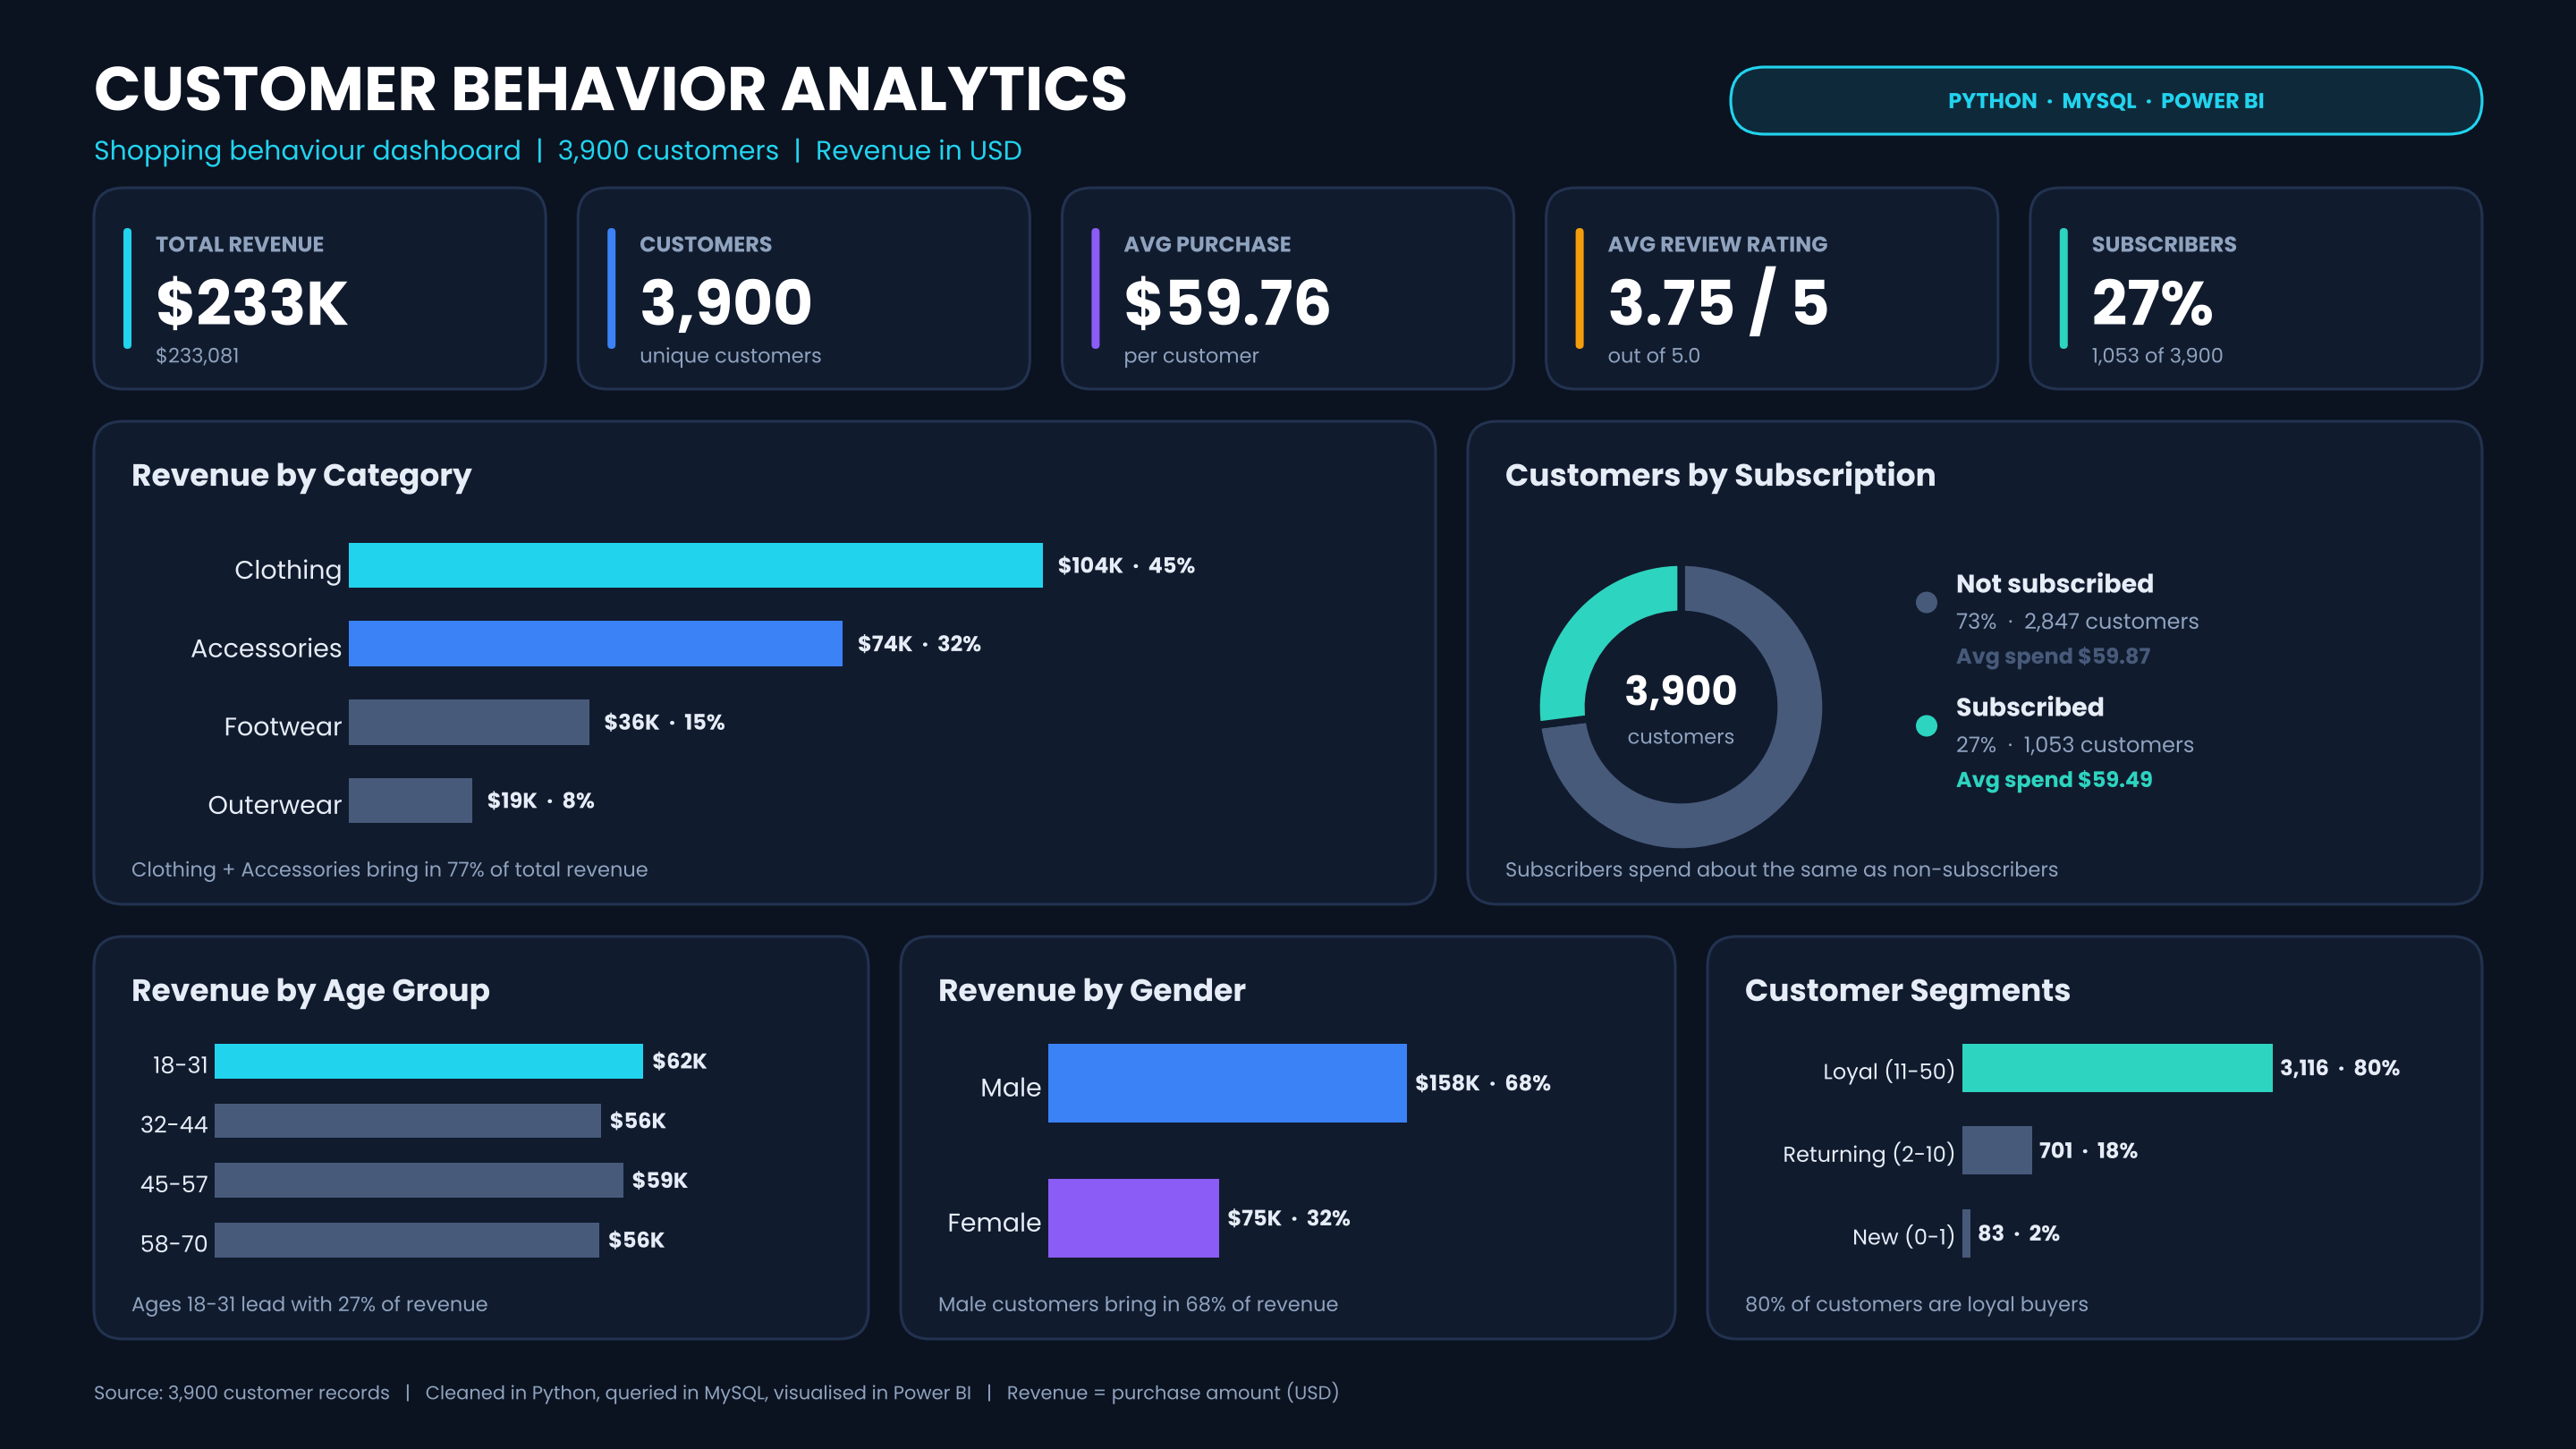

The page's visual inventory and layout, read from the dashboard file:
{"tool":"powerbi","page":{"name":"Page 1","canvas":[1920,1080],"ordinal":0},"visuals":[{"type":"cardVisual","fields":{"Data":["customer_behaviour customers.no_of_customers","customer_behaviour customers.avg_purchase_amount","customer_behaviour customers.avg_review_rating"]},"box":[0,169.2,1130.2,190.1],"z":0},{"type":"shape","box":[1546,170,333.9,880.5],"z":0,"group":"g7"},{"type":"shape","box":[0,426,484,296],"z":0,"group":"g2"},{"type":"shape","box":[510,426,484,296],"z":0,"group":"g1"},{"type":"shape","box":[1016,426,472,296],"z":0,"group":"g3"},{"type":"shape","box":[0,788,752.4,258.4],"z":9,"group":"g5"},{"type":"shape","box":[772,788,716.7,261.7],"z":9,"group":"g6"},{"type":"group","id":"g1","title":"Group 3","box":[510,426,484,296],"z":14,"group":"g4"},{"type":"clusteredBarChart","title":"Revenue by age group","fields":{"Category":["customer_behaviour customers.age_group"],"Y":["Sum(customer_behaviour customers.purchase_amount)"]},"box":[22.5,807.2,707.4,219.9],"z":17,"group":"g5"},{"type":"clusteredBarChart","title":"Sales by age group","fields":{"Category":["customer_behaviour customers.age_group"],"Y":["CountNonNull(customer_behaviour customers.customer_id)"]},"box":[790.3,808,680.2,221.7],"z":17,"group":"g6"},{"type":"shape","box":[0,0,1919.3,156.1],"z":1000},{"type":"advancedSlicerVisual","fields":{"Values":["customer_behaviour customers.subscription_status"]},"box":[1567.9,187.7,292.8,145.1],"z":1000,"group":"g7"},{"type":"clusteredColumnChart","title":"Sales by category","fields":{"Category":["customer_behaviour customers.category"],"Y":["CountNonNull(customer_behaviour customers.customer_id)"]},"box":[22.8,443.4,438.4,261.2],"z":1000,"group":"g2"},{"type":"donutChart","title":"% of customers by subscprition status","fields":{"Category":["customer_behaviour customers.subscription_status"],"Y":["CountNonNull(customer_behaviour customers.customer_id)"]},"box":[528.4,446.4,447.1,255.2],"z":1000,"group":"g1"},{"type":"clusteredColumnChart","title":"Revenue by category","fields":{"Category":["customer_behaviour customers.category"],"Y":["Sum(customer_behaviour customers.purchase_amount)"]},"box":[1037.8,446.4,428.4,255.3],"z":1000,"group":"g3"},{"type":"group","id":"g2","title":"Group 1","box":[0,426,484,296],"z":1500},{"type":"textbox","box":[0,40.4,1919.3,86],"z":2000},{"type":"advancedSlicerVisual","title":"Gender","fields":{"Values":["customer_behaviour customers.gender"]},"box":[1565.1,344.1,292.8,145.1],"z":2000,"group":"g7"},{"type":"advancedSlicerVisual","fields":{"Values":["customer_behaviour customers.category"]},"box":[1565.1,519.5,292.7,242.9],"z":3000,"group":"g7"},{"type":"group","id":"g3","title":"Group 1","box":[1016,426,472,296],"z":4000},{"type":"listSlicer","title":"shipping type","fields":{"Values":["customer_behaviour customers.shipping_type"]},"box":[1583.4,781,260.7,253],"z":4000,"group":"g7"},{"type":"group","id":"g4","title":"Group 2","box":[510,426,484,296],"z":5000},{"type":"group","id":"g5","title":"Group 4","box":[0,788,752,258],"z":6000},{"type":"group","id":"g6","title":"Group 4","box":[772,788,716,262],"z":7000},{"type":"group","id":"g7","title":"Group 5","box":[1546,170,334,880],"z":8000},{"type":"cardVisual","fields":{"Data":["Sum(customer_behaviour customers.purchase_amount)"]},"box":[1154.7,179.7,334.9,170.9],"z":8001}]}

Visuals, with their boxes in screenshot pixels (x1, y1, x2, y2), scaled from the page's 1920x1080 canvas onto the 2576x1449 screenshot:
cardVisual - customer_behaviour customers.no_of_customers x customer_behaviour customers.avg_purchase_amount: bbox(0, 227, 1516, 482)
shape: bbox(2074, 228, 2522, 1410)
shape: bbox(0, 572, 649, 969)
shape: bbox(684, 572, 1334, 969)
shape: bbox(1363, 572, 1996, 969)
shape: bbox(0, 1057, 1010, 1404)
shape: bbox(1036, 1057, 1997, 1409)
"Group 3" group: bbox(684, 572, 1334, 969)
"Revenue by age group" clusteredBarChart: bbox(30, 1083, 979, 1378)
"Sales by age group" clusteredBarChart: bbox(1060, 1084, 1973, 1382)
shape: bbox(0, 0, 2575, 209)
advancedSlicerVisual - customer_behaviour customers.subscription_status: bbox(2104, 252, 2496, 446)
"Sales by category" clusteredColumnChart: bbox(30, 595, 619, 945)
"% of customers by subscprition status" donutChart: bbox(709, 599, 1309, 941)
"Revenue by category" clusteredColumnChart: bbox(1393, 599, 1967, 942)
"Group 1" group: bbox(0, 572, 649, 969)
textbox: bbox(0, 55, 2575, 170)
"Gender" advancedSlicerVisual: bbox(2100, 462, 2493, 657)
advancedSlicerVisual - customer_behaviour customers.category: bbox(2100, 697, 2493, 1023)
"Group 1" group: bbox(1363, 572, 1996, 969)
"shipping type" listSlicer: bbox(2124, 1048, 2474, 1387)
"Group 2" group: bbox(684, 572, 1334, 969)
"Group 4" group: bbox(0, 1057, 1009, 1403)
"Group 4" group: bbox(1036, 1057, 1996, 1409)
"Group 5" group: bbox(2074, 228, 2522, 1409)
cardVisual - Sum(customer_behaviour customers.purchase_amount): bbox(1549, 241, 1998, 470)
